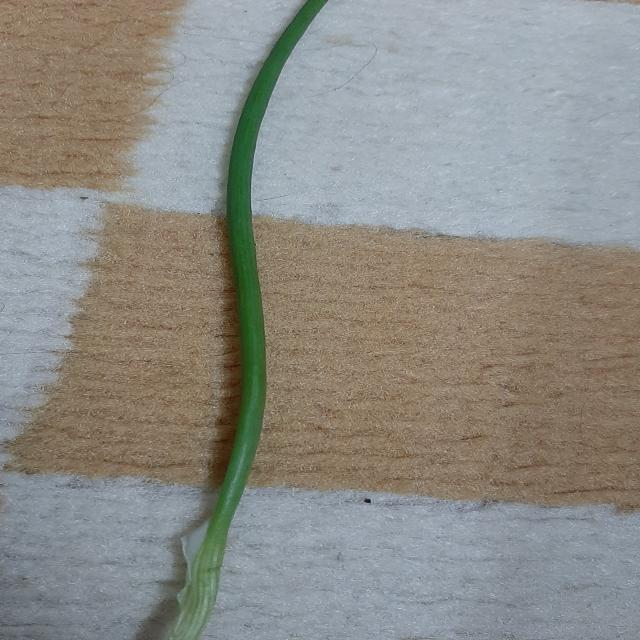onion: (165, 0, 328, 640)
